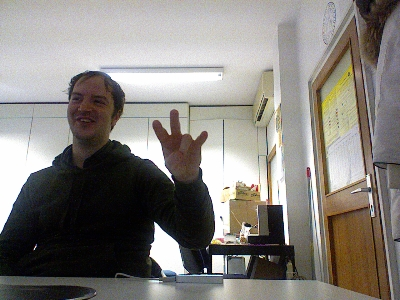观音: (150, 107, 208, 181)
